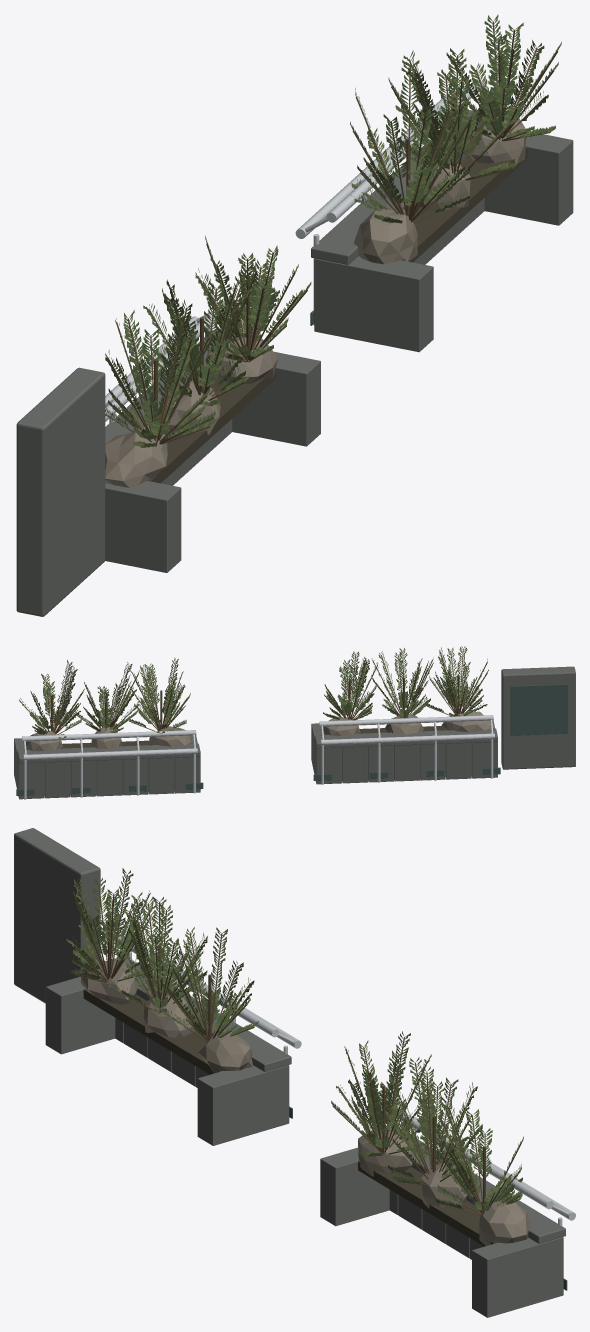
The model's file is hachiko-surround.glb.
3 views of the same model, one above another, from view 1: azimuth 30°, elevation 25°; view 2: azimuth 150°, elevation 25°; view 3: azimuth 270°, elevation 25° (orthographic). The views are drawn at different scales.
Parts seen in each view (by area): view 1: street_surround_stone, street_surround_needle, street_surround_branch, street_surround_rock, street_surround_soil, street_surround_silver; view 2: street_surround_stone, street_surround_needle, street_surround_silver, street_surround_branch, street_surround_panel, street_surround_rock, street_surround_soil; view 3: street_surround_stone, street_surround_needle, street_surround_branch, street_surround_rock, street_surround_soil, street_surround_silver.
Boxes of the visible parts, <box> form: street_surround_stone: <box>16,110,573,616</box>; street_surround_needle: <box>105,14,561,446</box>; street_surround_branch: <box>107,21,558,447</box>; street_surround_rock: <box>105,110,526,487</box>; street_surround_soil: <box>147,146,528,483</box>; street_surround_silver: <box>105,79,483,422</box>; street_surround_stone: <box>14,666,575,799</box>; street_surround_needle: <box>19,646,488,738</box>; street_surround_silver: <box>22,715,494,799</box>; street_surround_branch: <box>20,649,487,738</box>; street_surround_panel: <box>16,684,567,795</box>; street_surround_rock: <box>26,711,494,751</box>; street_surround_soil: <box>62,726,444,748</box>; street_surround_stone: <box>14,828,565,1317</box>; street_surround_needle: <box>66,868,523,1210</box>; street_surround_branch: <box>71,874,521,1215</box>; street_surround_rock: <box>81,959,530,1245</box>; street_surround_soil: <box>83,989,496,1246</box>; street_surround_silver: <box>113,933,575,1225</box>.
Size of the model in its own units: 6.25 by 1.66 by 4.52.
